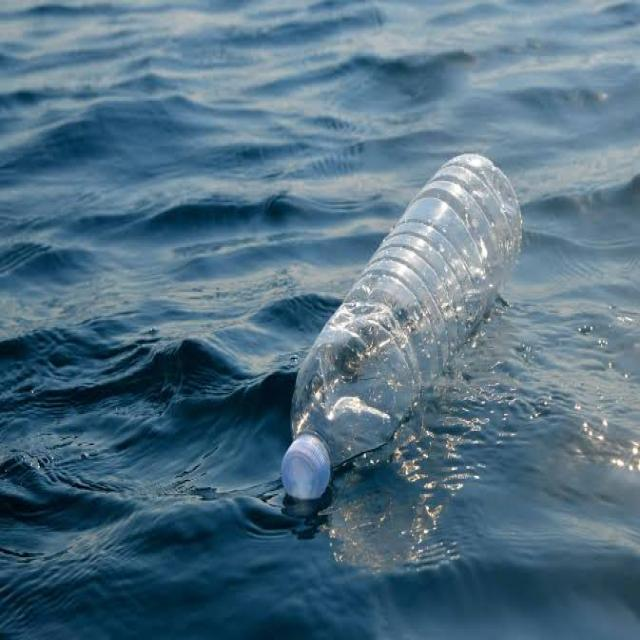plastic bottle: (269, 146, 538, 538)
